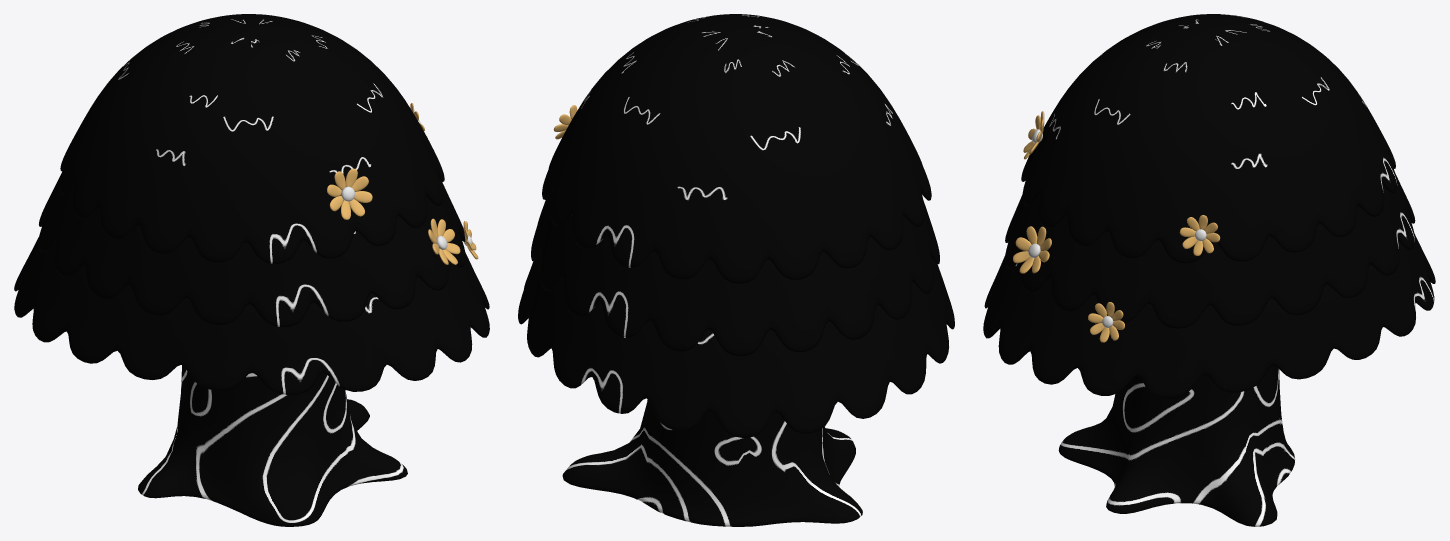
Rendered from flower_tree.glb.
The picture shows the model from 3 angles, left to right: view 1: azimuth 30°, elevation 25°; view 2: azimuth 150°, elevation 25°; view 3: azimuth 270°, elevation 25°; orthographic projection. The views are drawn at different scales.
Visible parts, largest first — view 1: 球体.001, 球体.003, 球体.002, 柱体.012, 平面.040, 平面.035; view 2: 球体.001, 球体.003, 球体.002, 柱体.012; view 3: 球体.001, 球体.003, 球体.002, 柱体.012, 平面.035, 平面.039, 平面.038.
Part boxes in pixels (bbox=[...]): 球体.001: bbox=[59, 14, 444, 263]; 球体.003: bbox=[14, 237, 489, 395]; 球体.002: bbox=[38, 172, 465, 327]; 柱体.012: bbox=[138, 365, 407, 526]; 平面.040: bbox=[327, 168, 372, 219]; 平面.035: bbox=[428, 218, 460, 264]; 球体.001: bbox=[542, 14, 931, 283]; 球体.003: bbox=[518, 254, 954, 437]; 球体.002: bbox=[531, 193, 939, 356]; 柱体.012: bbox=[562, 400, 862, 526]; 球体.001: bbox=[1021, 14, 1397, 263]; 球体.003: bbox=[983, 233, 1435, 398]; 球体.002: bbox=[1005, 174, 1415, 328]; 柱体.012: bbox=[1058, 365, 1295, 526]; 平面.035: bbox=[1013, 226, 1051, 273]; 平面.039: bbox=[1179, 215, 1220, 255]; 平面.038: bbox=[1088, 302, 1124, 342].
Size of the model in its own units: 8 by 8.71 by 8.23.
Materials: 4 (2 with a texture image).
